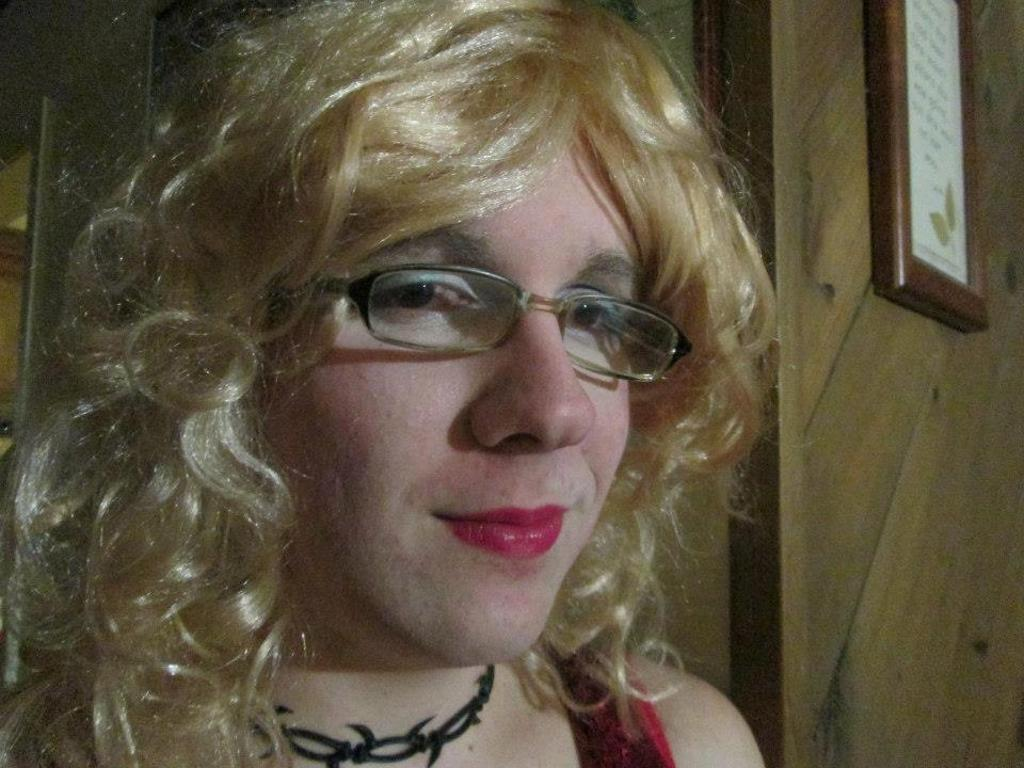face: (270, 98, 632, 664)
